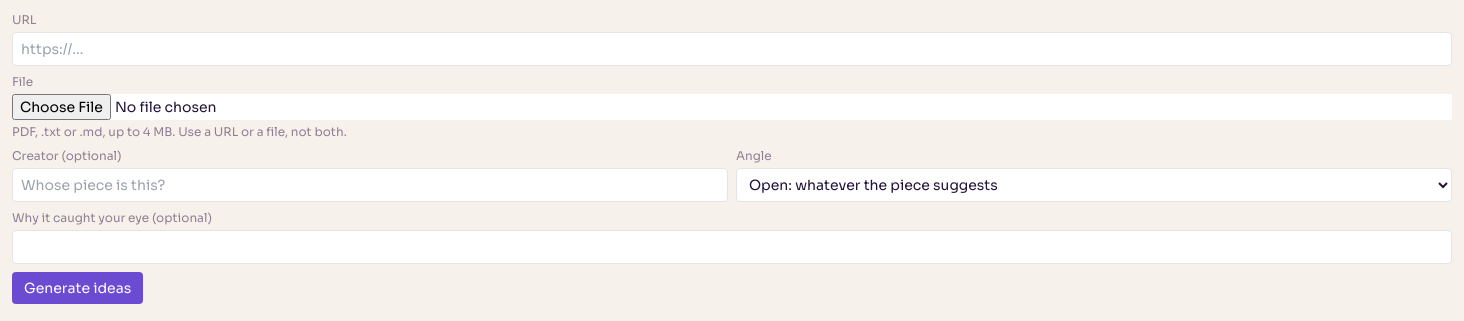
Test case: FoundContentForm with an API key › submits the fields and reports how many ideas landed
Type "https://example.com/a" into the field labelled "URL" at coordinates (732, 49), box [12, 32, 1452, 66]
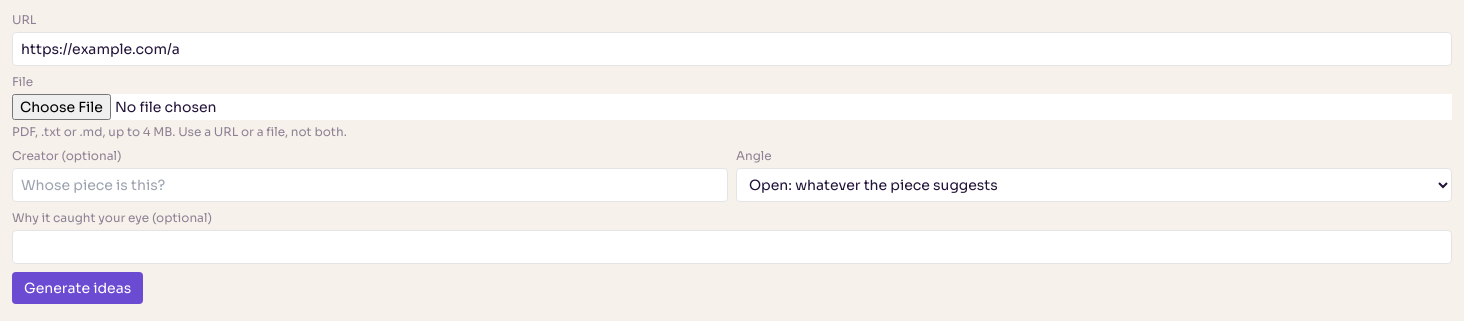
Select "Twist: build on it with our numbers" in the dropdown labelled "Angle" at coordinates (1094, 185), box [736, 168, 1452, 202]
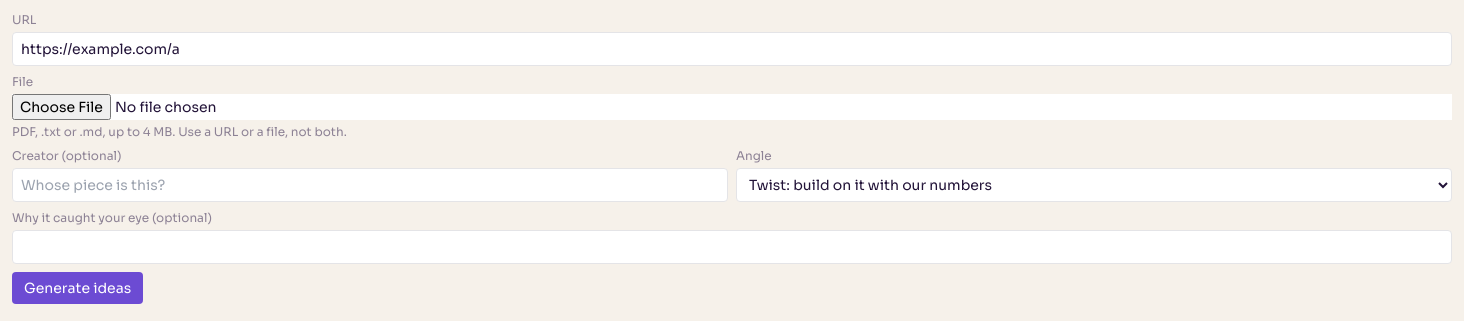
Submit the form named "Generate ideas"
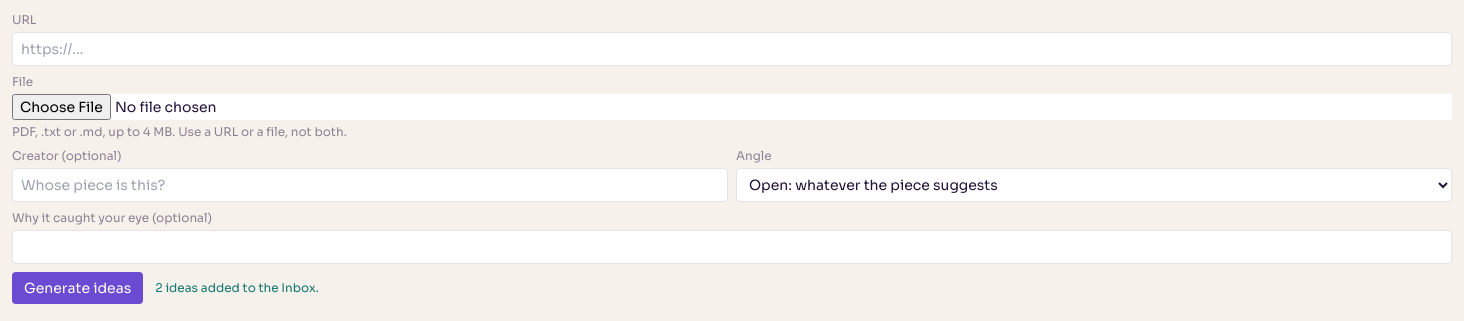
Check: the text "2 ideas added to the Inbox." is shown, box [155, 280, 319, 296]
